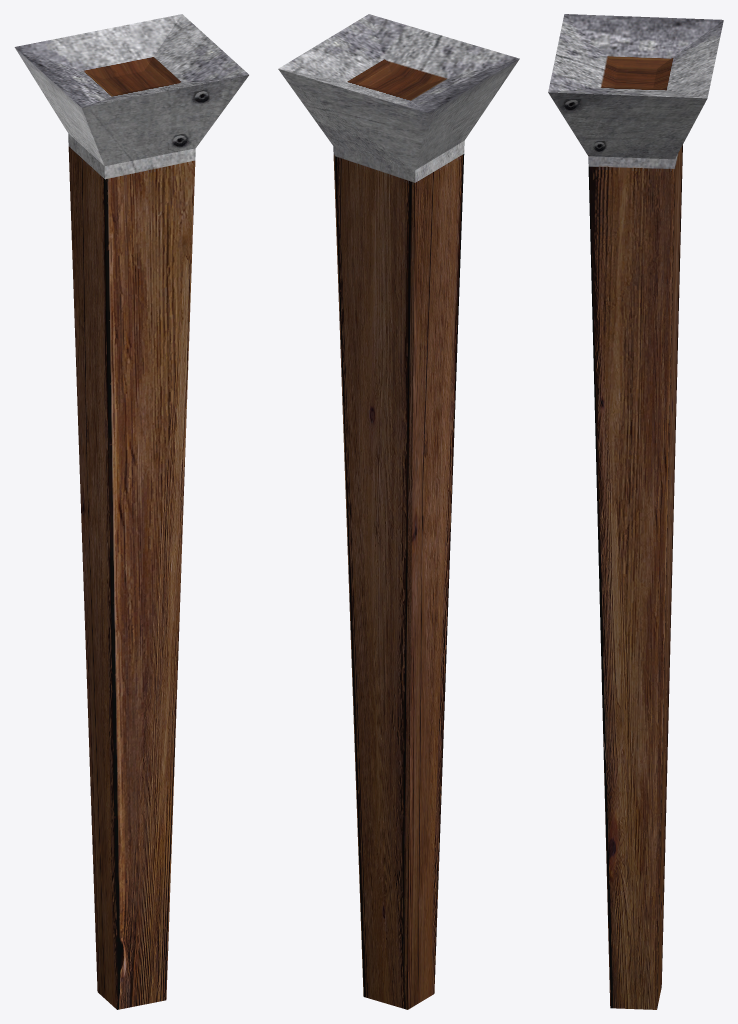
File: Torch.FBX
The picture shows the model from 3 angles, left to right: view 1: azimuth 30°, elevation 25°; view 2: azimuth 150°, elevation 25°; view 3: azimuth 270°, elevation 25°; orthographic projection.
Parts seen in each view (by area): view 1: Torch; view 2: Torch; view 3: Torch.
Boxes of the visible parts, left/top/right/bottom form: Torch: left=14, top=14, right=248, bottom=1009; Torch: left=278, top=14, right=519, bottom=1009; Torch: left=548, top=14, right=723, bottom=1009.
Size of the model in its own units: 3.27 by 17 by 2.88.
